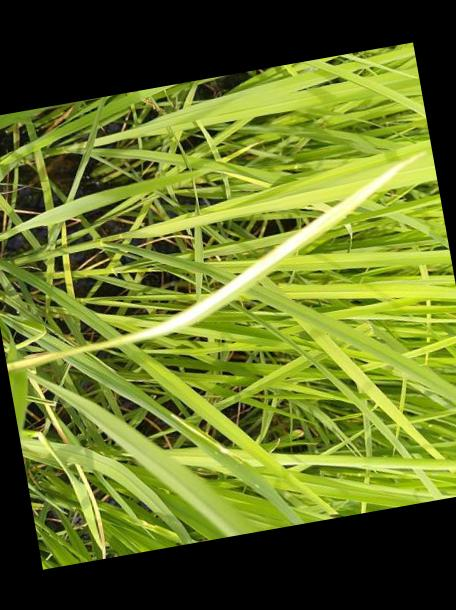Leaf Blight: (6, 151, 426, 373)
